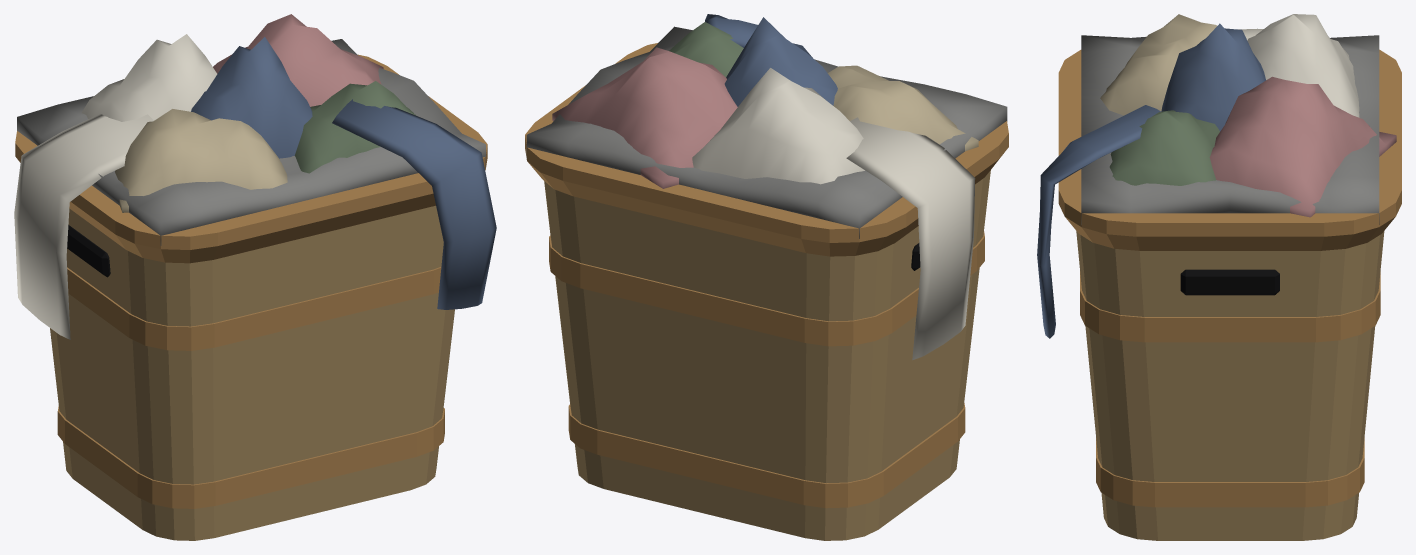
The model's file is CestoDeRoupa.fbx.
The picture shows the model from 3 angles, left to right: view 1: azimuth 30°, elevation 25°; view 2: azimuth 150°, elevation 25°; view 3: azimuth 270°, elevation 25°; orthographic projection. The views are drawn at different scales.
Visible parts, largest first — view 1: CestoDeRoupa; view 2: CestoDeRoupa; view 3: CestoDeRoupa.
Boxes of the visible parts, x1=… form: CestoDeRoupa: x1=14, y1=14, x2=496, y2=540; CestoDeRoupa: x1=525, y1=14, x2=1008, y2=540; CestoDeRoupa: x1=1037, y1=14, x2=1401, y2=540.
Size of the model in its own units: 0.502 by 0.5492 by 0.404.
